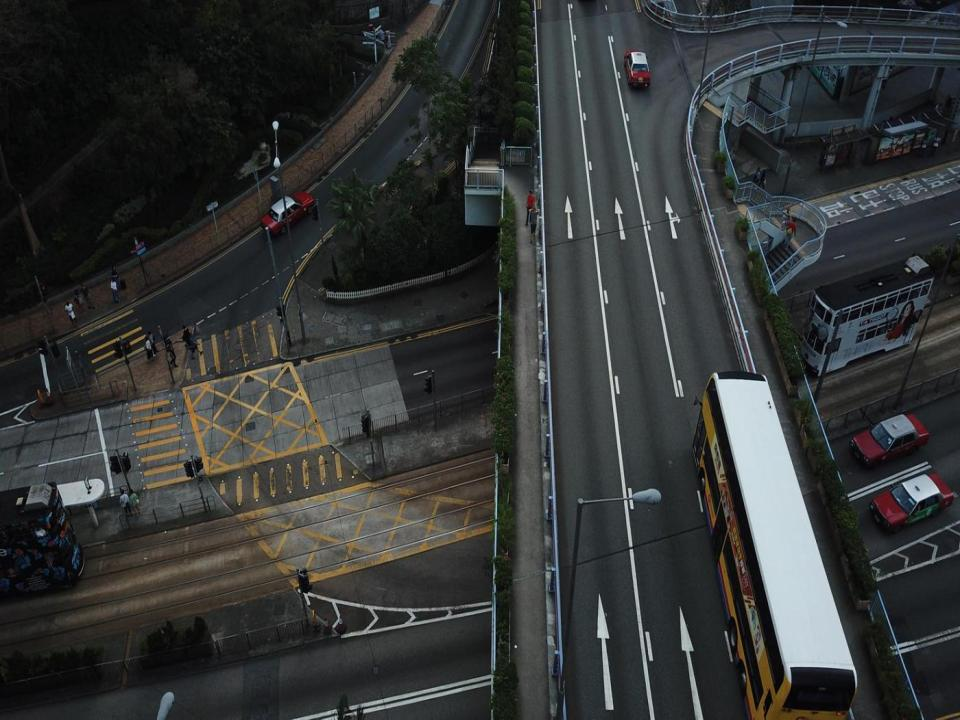bus: (690, 368, 853, 719), (798, 255, 936, 378), (3, 481, 86, 592)
car: (868, 470, 955, 536), (849, 411, 936, 472), (259, 189, 314, 240), (625, 49, 652, 94)
